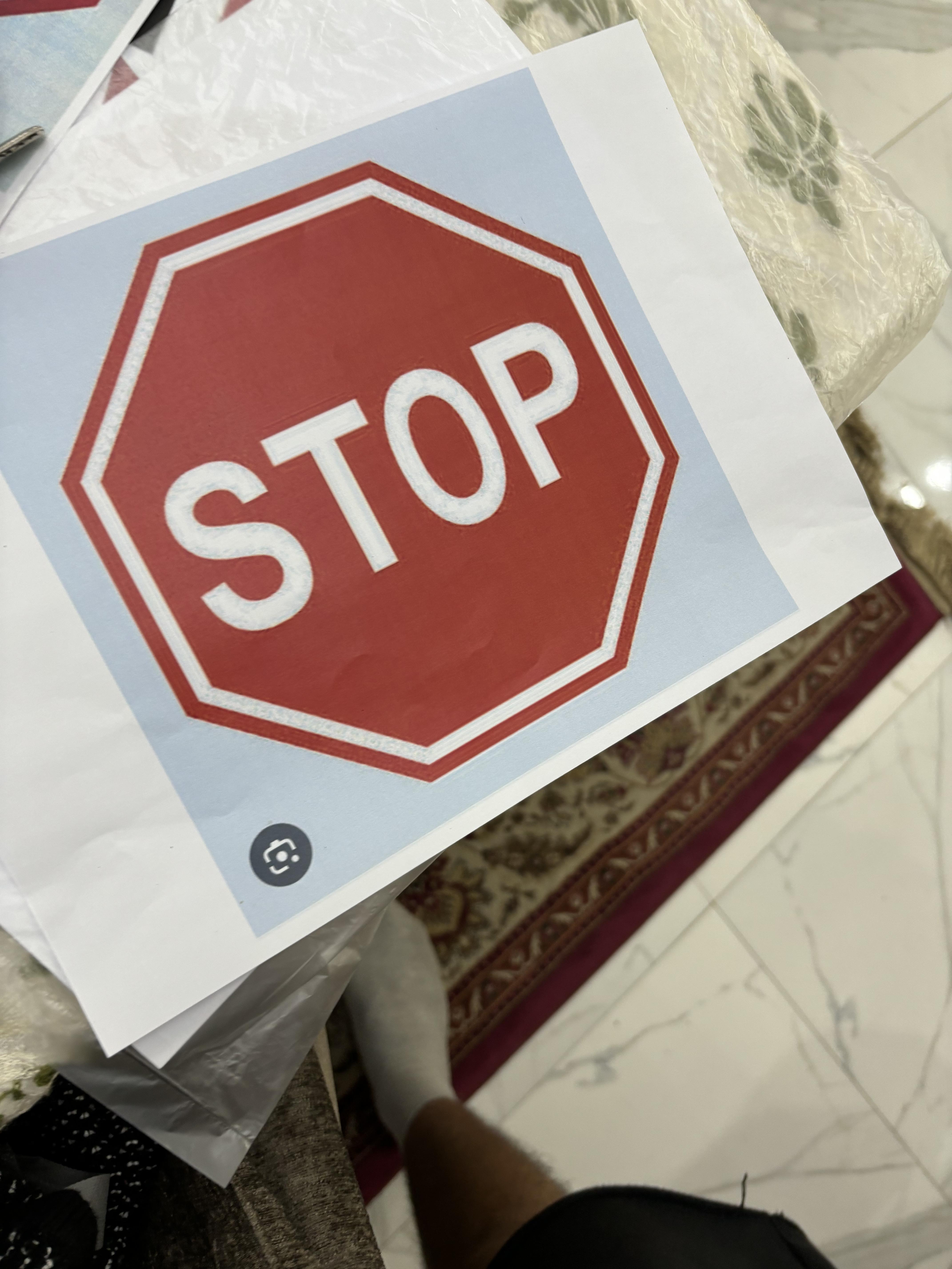Stop: (51, 154, 692, 783)
